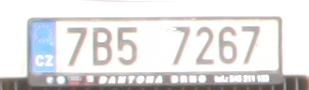2: (196, 28, 214, 64)
5: (118, 27, 137, 65)
6: (219, 26, 237, 62)
7: (67, 27, 88, 66), (170, 28, 189, 64), (242, 26, 259, 63)
B: (93, 28, 112, 65)
